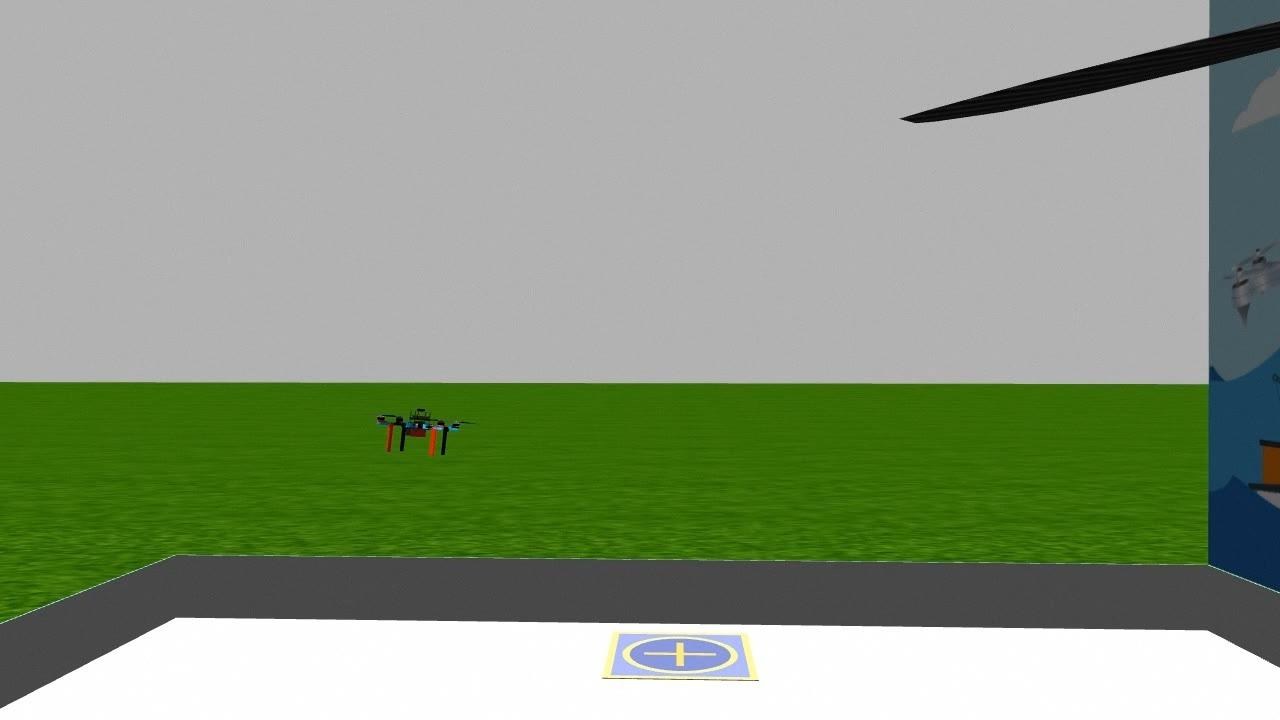UAV: (374, 399, 464, 459)
